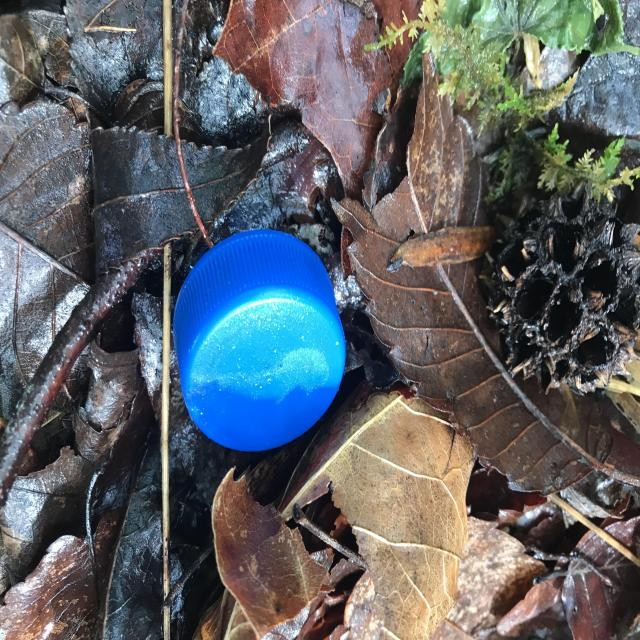litter: (172, 231, 345, 448)
